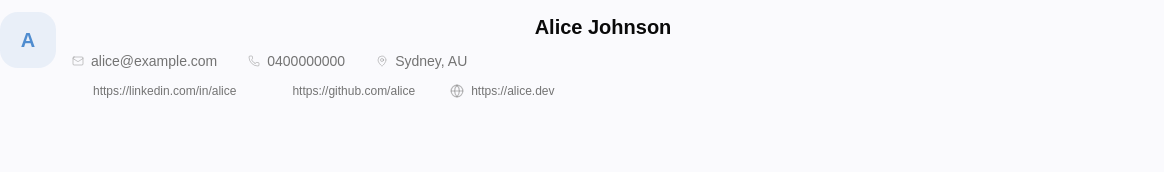
it: ReviewProfileSection — EditableField interactions › reverts to original value on Escape
Click the button "Alice Johnson" at [612, 27], box [72,12,1152,42]
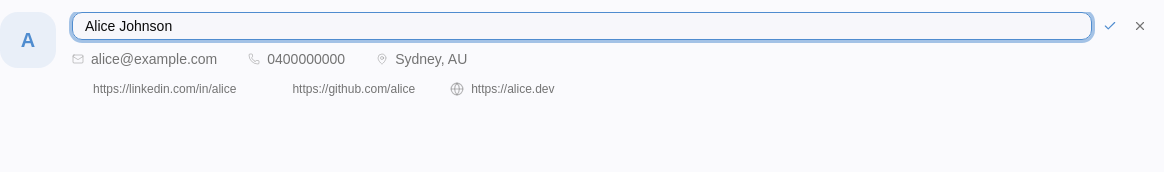
Replace the text in the field showing "Alice Johnson" with "Partial name" at [582, 26], box [72,12,1092,40]
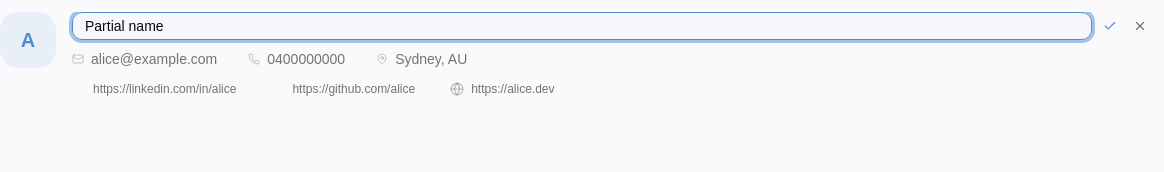
Press Escape
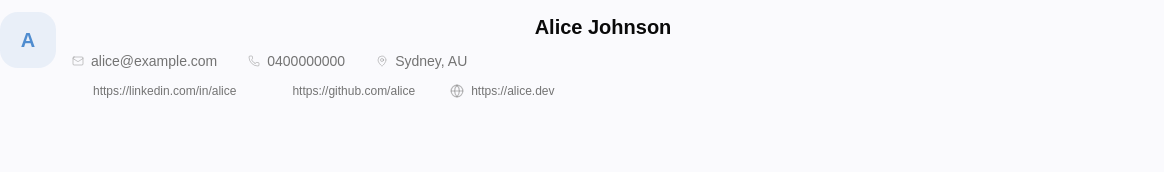
expect the text "Alice Johnson" is shown: met, box [535,13,671,41]
